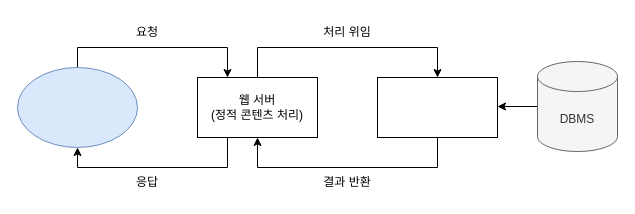
Image size: 635x214. Some labels were removed from this diagram. Here are the shapes that lost their labels. From the top down, the centre of each, then its label:
pixel 77 107: 웹 클라이언트
pixel 437 107: WAS (동적 콘텐츠 처리)
